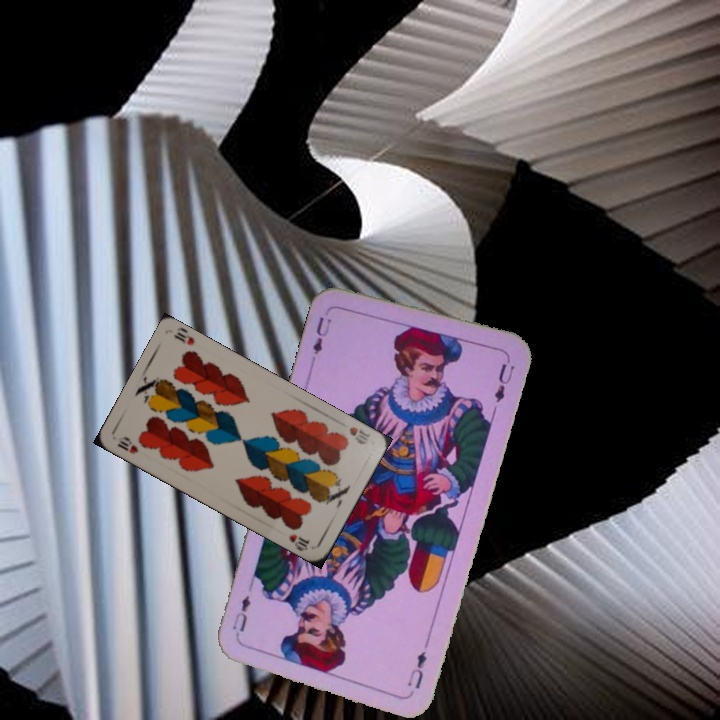EU: (403, 635, 432, 692), (308, 304, 334, 357)
H10: (345, 422, 373, 447), (113, 432, 141, 456)
